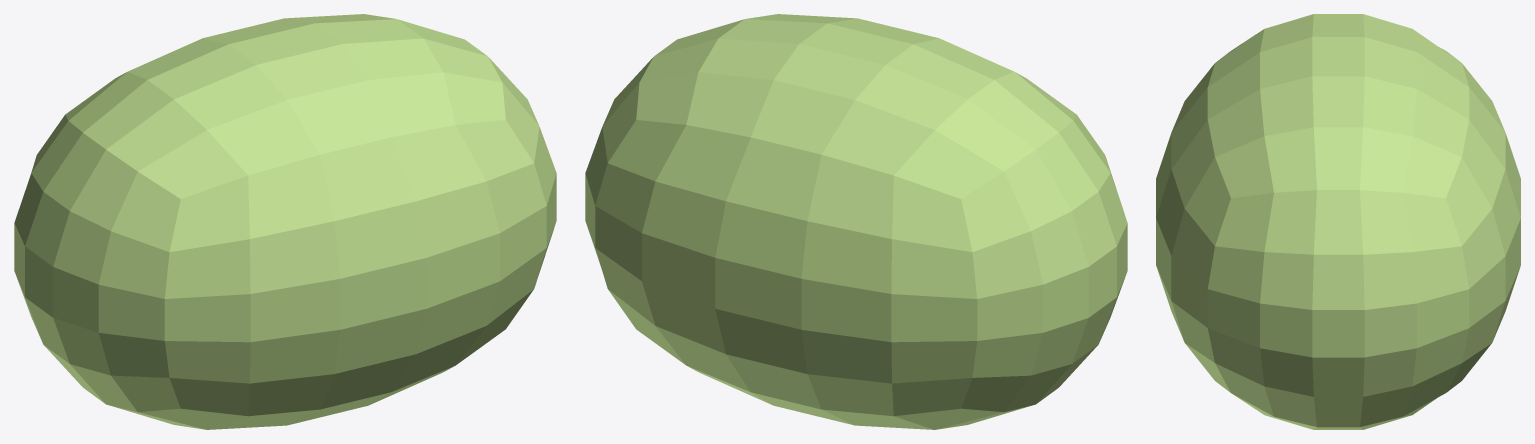
Rendered from Melon.fbx.
3 renders of one model, left to right at view 1: azimuth 30°, elevation 25°; view 2: azimuth 150°, elevation 25°; view 3: azimuth 270°, elevation 25°, orthographic. The views are drawn at different scales.
Parts seen in each view (by area): view 1: melon_Roundcube.008; view 2: melon_Roundcube.008; view 3: melon_Roundcube.008.
Boxes of the visible parts, x1,y1,x2,y2 form: melon_Roundcube.008: (14,14,556,429); melon_Roundcube.008: (585,14,1127,429); melon_Roundcube.008: (1156,14,1520,429).
Size of the model in its own units: 706 by 487 by 487.
